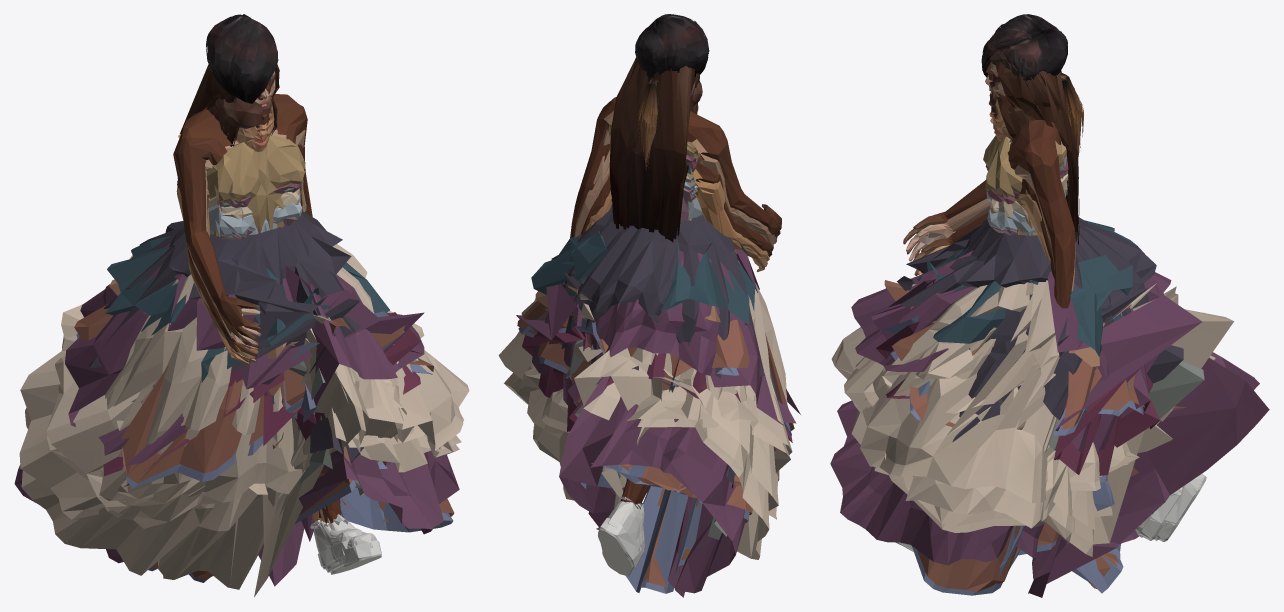
File: iris.glb
3 views of the same model, side by side, from view 1: azimuth 30°, elevation 25°; view 2: azimuth 150°, elevation 25°; view 3: azimuth 270°, elevation 25° (orthographic). The views are drawn at different scales.
Parts seen in each view (by area): view 1: Look iris-6, Look iris-3, Look iris-0, Look iris-2, Look iris-4, Look iris-1, Look iris-7, Look iris-5; view 2: Look iris-6, Look iris-3, Look iris-0, Look iris-2, Look iris-4, Look iris-1, Look iris-7, Look iris-5; view 3: Look iris-6, Look iris-3, Look iris-2, Look iris-0, Look iris-1, Look iris-4, Look iris-7, Look iris-5.
Part boxes in pixels (x1=…): Look iris-6: x1=14, y1=64, x2=469, y2=586; Look iris-3: x1=89, y1=14, x2=424, y2=574; Look iris-0: x1=46, y1=94, x2=461, y2=586; Look iris-2: x1=21, y1=98, x2=463, y2=597; Look iris-4: x1=46, y1=105, x2=459, y2=589; Look iris-1: x1=105, y1=71, x2=389, y2=573; Look iris-7: x1=157, y1=96, x2=379, y2=567; Look iris-5: x1=109, y1=94, x2=362, y2=569; Look iris-6: x1=498, y1=57, x2=800, y2=597; Look iris-3: x1=534, y1=14, x2=787, y2=576; Look iris-0: x1=517, y1=77, x2=794, y2=587; Look iris-2: x1=504, y1=103, x2=792, y2=559; Look iris-4: x1=517, y1=96, x2=791, y2=593; Look iris-1: x1=531, y1=111, x2=776, y2=545; Look iris-7: x1=565, y1=81, x2=767, y2=539; Look iris-5: x1=535, y1=147, x2=773, y2=549; Look iris-6: x1=830, y1=61, x2=1269, y2=597; Look iris-3: x1=855, y1=14, x2=1206, y2=551; Look iris-2: x1=851, y1=97, x2=1182, y2=556; Look iris-0: x1=864, y1=72, x2=1215, y2=592; Look iris-1: x1=900, y1=53, x2=1203, y2=541; Look iris-4: x1=864, y1=99, x2=1181, y2=595; Look iris-7: x1=918, y1=92, x2=1204, y2=537; Look iris-5: x1=914, y1=92, x2=1177, y2=540.
Bounding box in the file's own units: 1.14 × 1.78 × 1.23.
